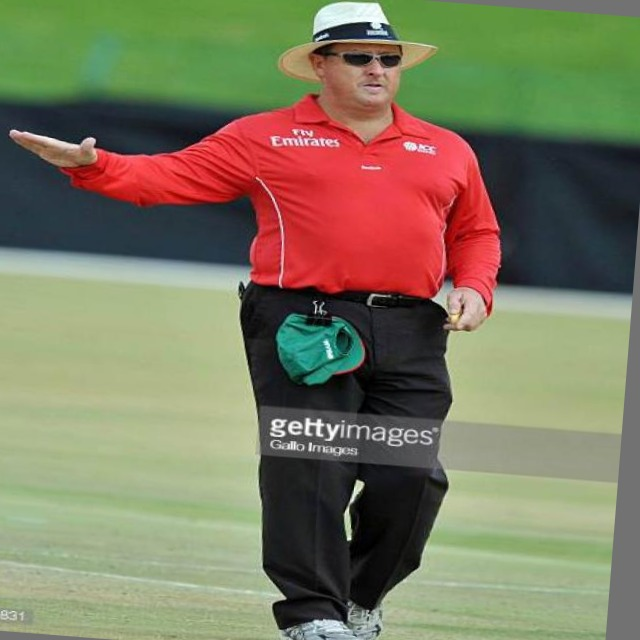No_Ball: (0, 0, 527, 640)
